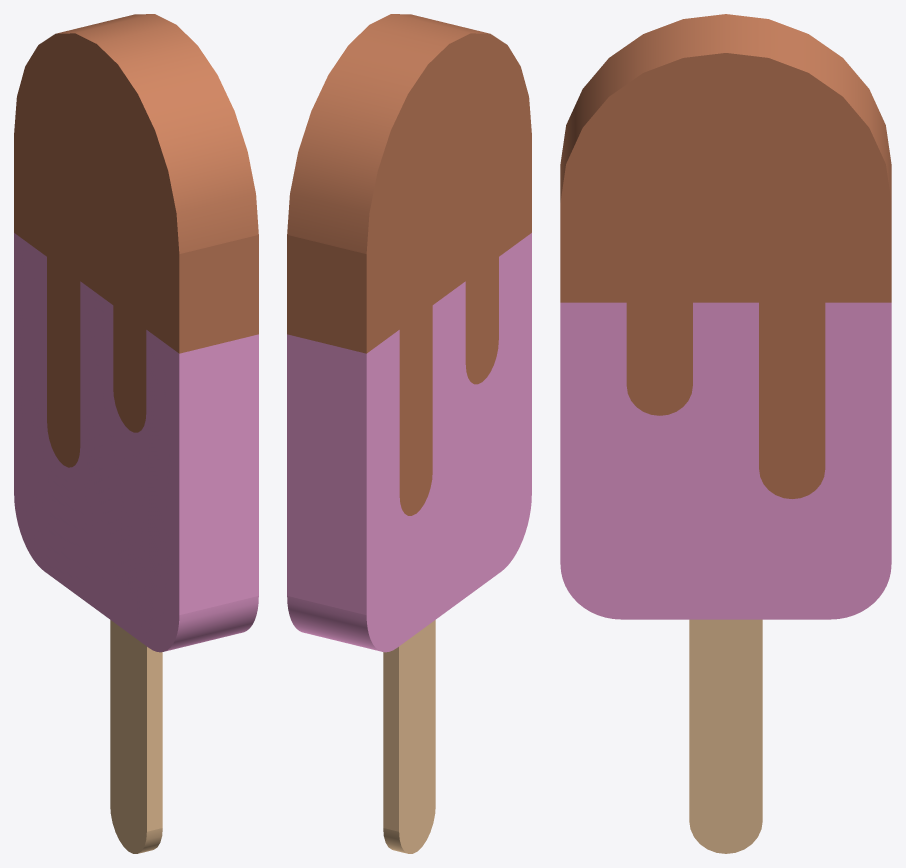
File: Popsicle Chocolate.glb
3 renders of one model, left to right at view 1: azimuth 30°, elevation 25°; view 2: azimuth 150°, elevation 25°; view 3: azimuth 270°, elevation 25°, orthographic.
Parts seen in each view (by area): view 1: popsicleChocolate; view 2: popsicleChocolate; view 3: popsicleChocolate.
Part boxes in pixels (x1,y1,x2,y2): popsicleChocolate: [14, 14, 258, 853]; popsicleChocolate: [287, 14, 531, 853]; popsicleChocolate: [560, 14, 891, 853].
Size of the model in its own units: 0.05 by 0.49 by 0.18.
